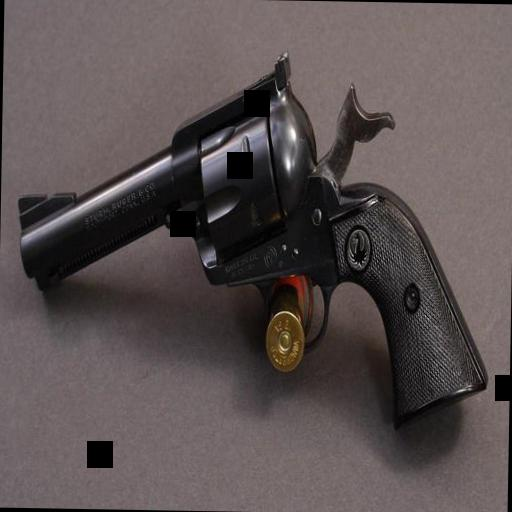Handgun: (12, 41, 494, 444)
